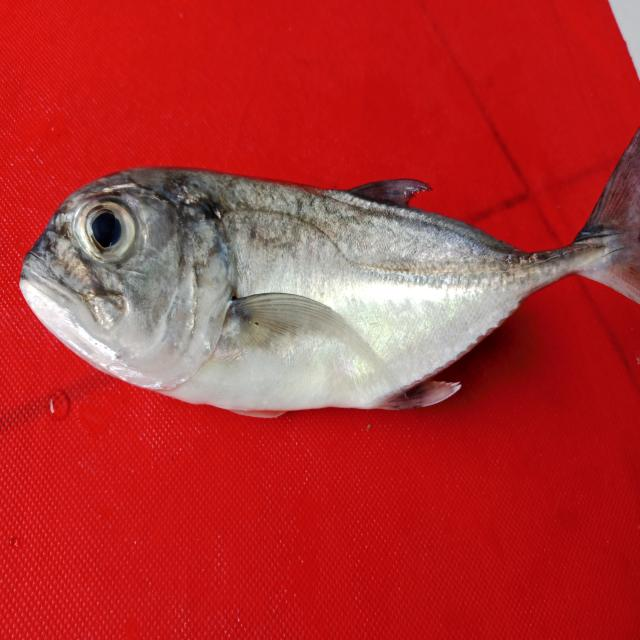ikan: (13, 111, 632, 430)
